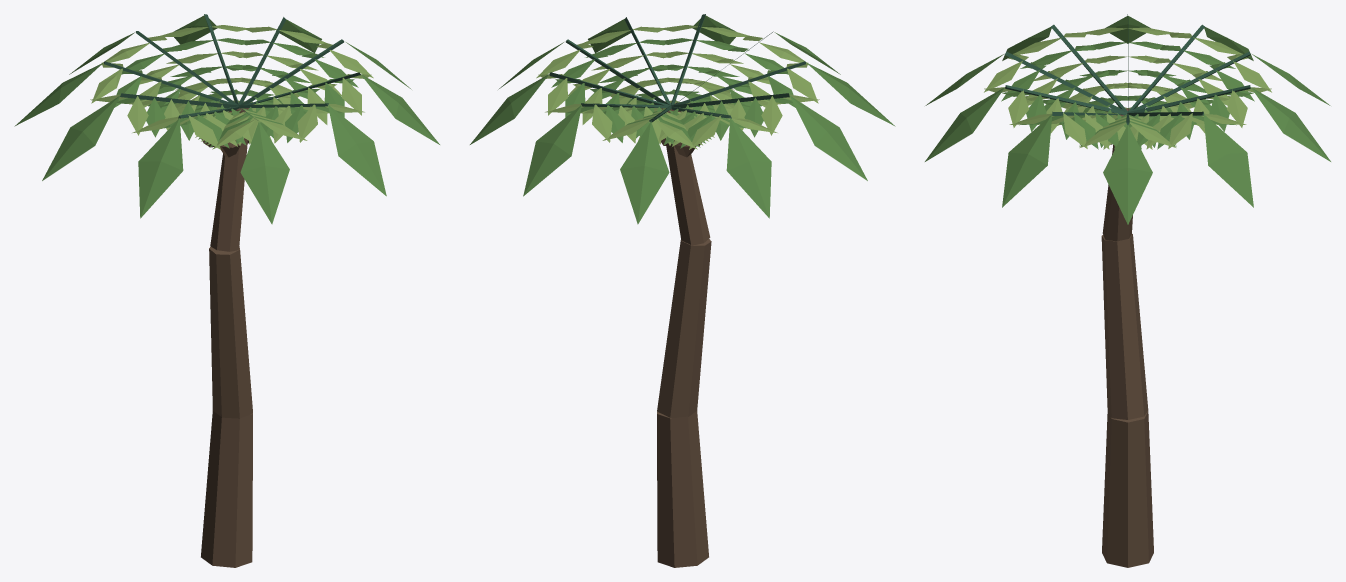
File: vegetation-palm.lod1.glb
The picture shows the model from 3 angles, left to right: view 1: azimuth 30°, elevation 25°; view 2: azimuth 150°, elevation 25°; view 3: azimuth 270°, elevation 25°; orthographic projection.
Visible parts, largest first — view 1: vegetation-palm__body; view 2: vegetation-palm__body; view 3: vegetation-palm__body.
Part boxes in pixels (bbox=[...]): vegetation-palm__body: bbox=[14, 14, 439, 567]; vegetation-palm__body: bbox=[470, 14, 895, 567]; vegetation-palm__body: bbox=[925, 14, 1330, 567].
Size of the model in its own units: 4.8 by 6.06 by 4.57.
